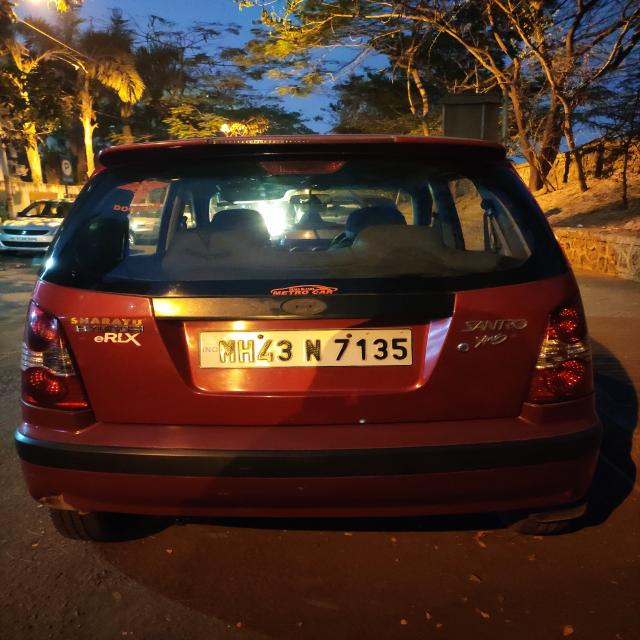Number-Plate: (202, 329, 422, 367)
